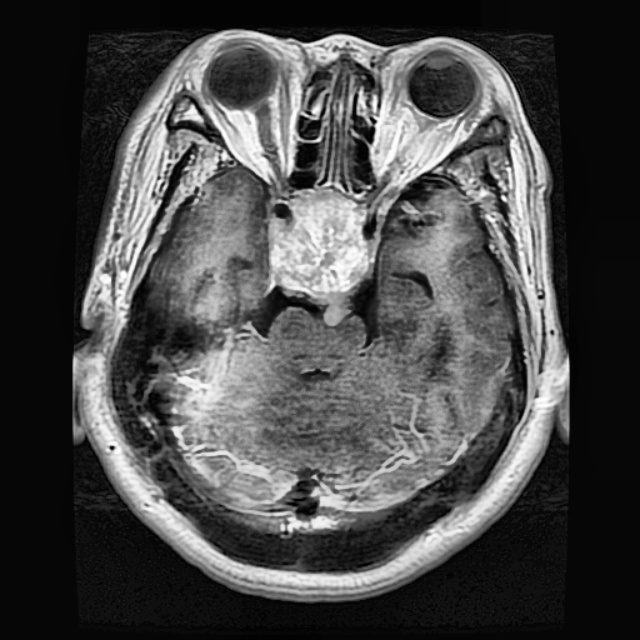Pituitary: (273, 189, 370, 300)
